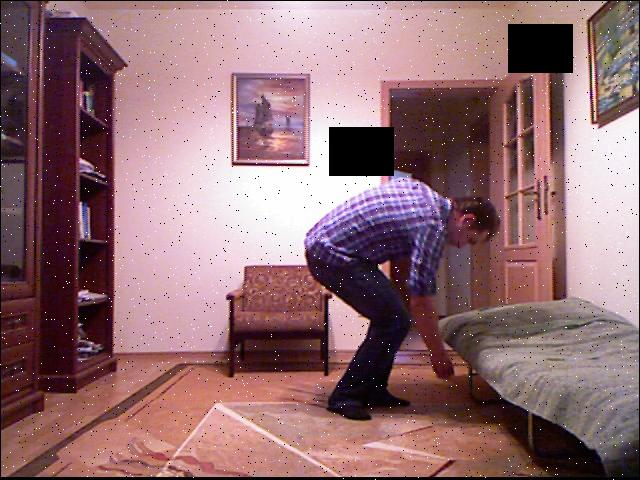bending: (299, 161, 506, 433)
